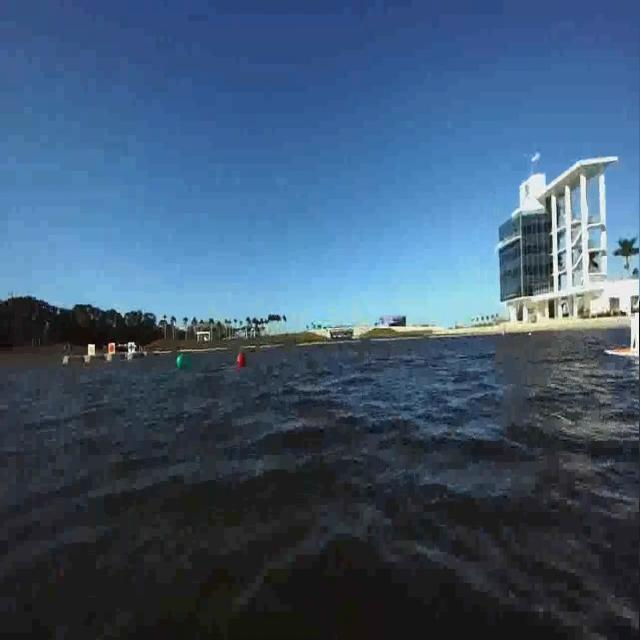green-buoy: (176, 354, 185, 368)
red-buoy: (238, 352, 248, 370)
